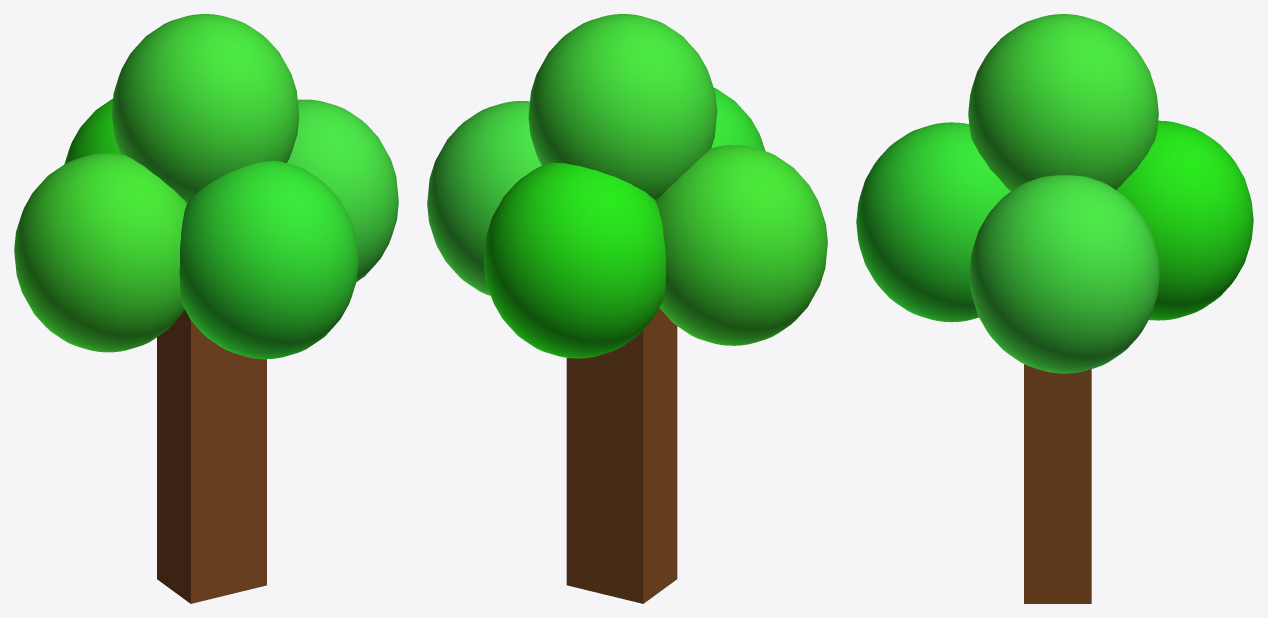
The model's file is tree.glb.
3 views of the same model, side by side, from view 1: azimuth 30°, elevation 25°; view 2: azimuth 150°, elevation 25°; view 3: azimuth 270°, elevation 25° (orthographic).
Visible parts, largest first — view 1: Sphere, Cube, Sphere.001, Sphere.004, Sphere.003, Sphere.002; view 2: Sphere.002, Cube, Sphere.001, Sphere.004, Sphere.003, Sphere; view 3: Sphere.003, Sphere.004, Sphere, Sphere.002, Cube.
Part boxes in pixels (x1=…): Sphere: x1=179, y1=160, x2=358, y2=359; Cube: x1=157, y1=310, x2=266, y2=603; Sphere.001: x1=14, y1=153, x2=186, y2=352; Sphere.004: x1=112, y1=14, x2=299, y2=203; Sphere.003: x1=287, y1=99, x2=398, y2=281; Sphere.002: x1=64, y1=98, x2=119, y2=164; Sphere.002: x1=483, y1=162, x2=666, y2=358; Cube: x1=566, y1=308, x2=677, y2=603; Sphere.001: x1=656, y1=145, x2=827, y2=345; Sphere.004: x1=528, y1=14, x2=717, y2=200; Sphere.003: x1=427, y1=101, x2=541, y2=295; Sphere: x1=711, y1=87, x2=765, y2=150; Sphere.003: x1=969, y1=175, x2=1159, y2=373; Sphere.004: x1=968, y1=14, x2=1158, y2=191; Sphere: x1=856, y1=122, x2=1010, y2=322; Sphere.002: x1=1116, y1=120, x2=1253, y2=320; Cube: x1=1024, y1=364, x2=1091, y2=603.
Size of the model in its own units: 5.11 by 7.46 by 4.78.
